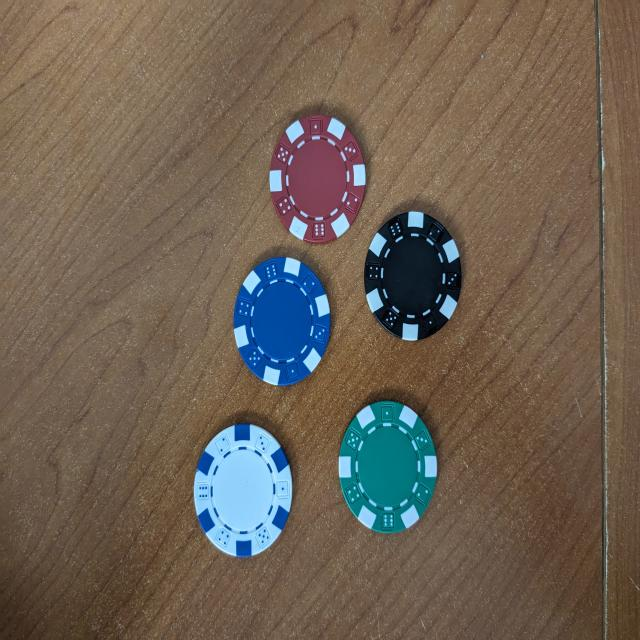black chip: (363, 210, 464, 344)
blue chip: (231, 257, 333, 390)
green chip: (337, 401, 439, 536)
red chip: (267, 110, 369, 248)
white chip: (192, 423, 295, 561)
